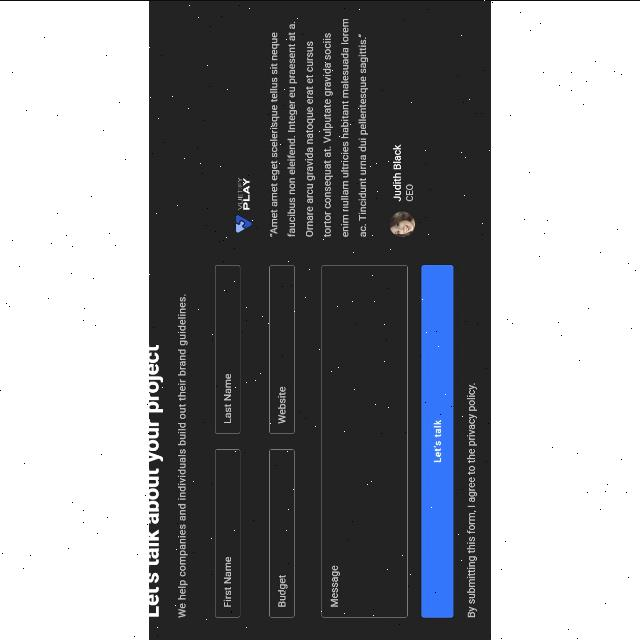QLabel: (268, 13, 372, 237), (176, 292, 188, 618), (150, 344, 164, 618), (468, 381, 480, 619), (393, 142, 403, 202), (432, 416, 443, 464), (407, 182, 415, 202)
VAvatar: (390, 210, 416, 238)
VBtn: (420, 262, 456, 618)
VImg: (235, 175, 252, 232)
VTextField: (214, 263, 242, 435), (268, 262, 296, 433), (268, 447, 296, 618), (214, 447, 242, 617)
VTextarea: (320, 262, 410, 618)
